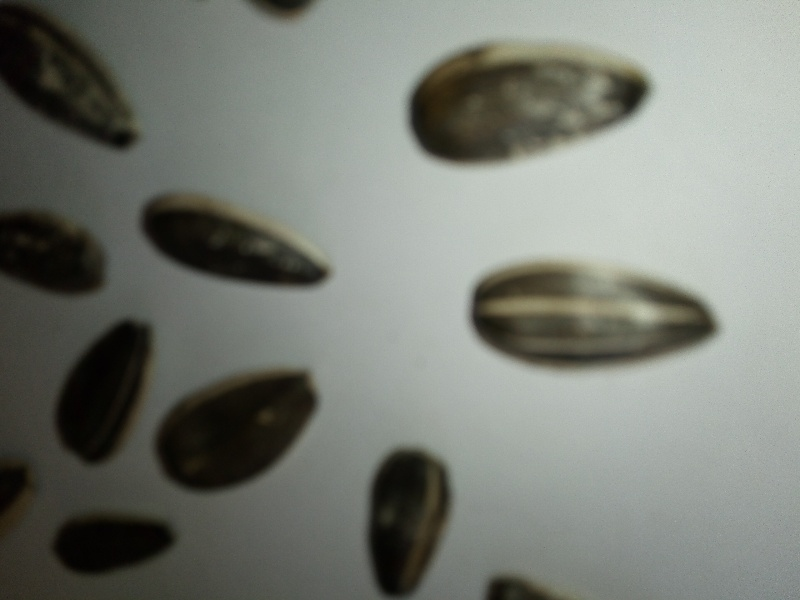girasol: (392, 24, 677, 173), (448, 248, 735, 374), (127, 181, 356, 294)
